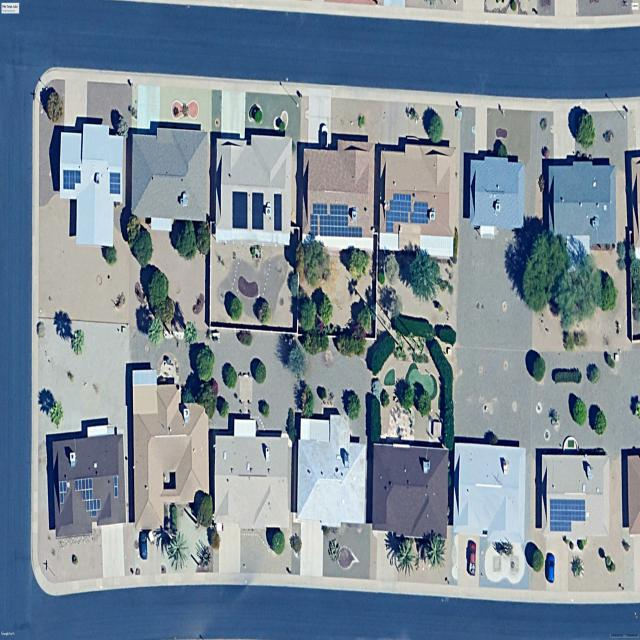Home: (132, 369, 208, 529), (379, 143, 457, 259), (216, 134, 292, 246), (214, 419, 291, 529), (302, 140, 375, 250), (297, 414, 367, 527), (60, 124, 123, 246), (53, 434, 125, 538), (131, 127, 209, 221), (371, 443, 448, 538), (548, 160, 617, 248), (542, 453, 610, 537), (469, 156, 525, 229), (627, 454, 640, 536)
